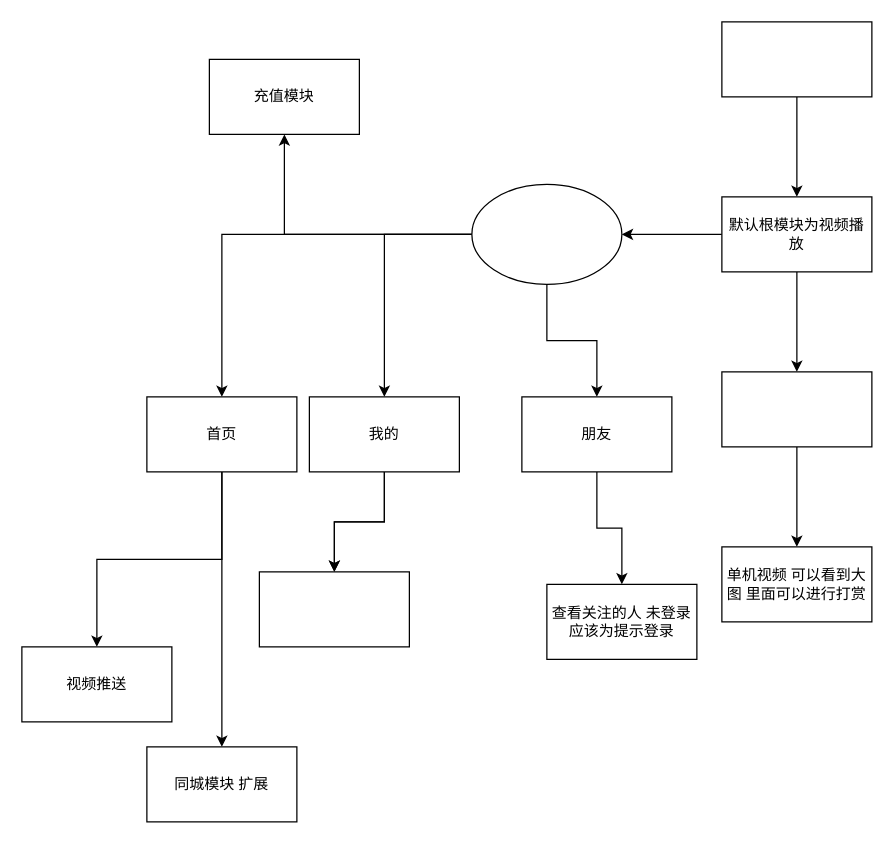
This 894x844 diagram has some shape labels left out. The shapes that lost their labels are listed below. From the top down, each one's box as (x1, y1, x2, y2) in pixels, then its label:
(721, 21, 872, 97): 用户打开网站
(471, 183, 622, 284): 根模块功能
(721, 371, 872, 447): 视频可以点赞 分享
(258, 571, 409, 647): 登录模块
